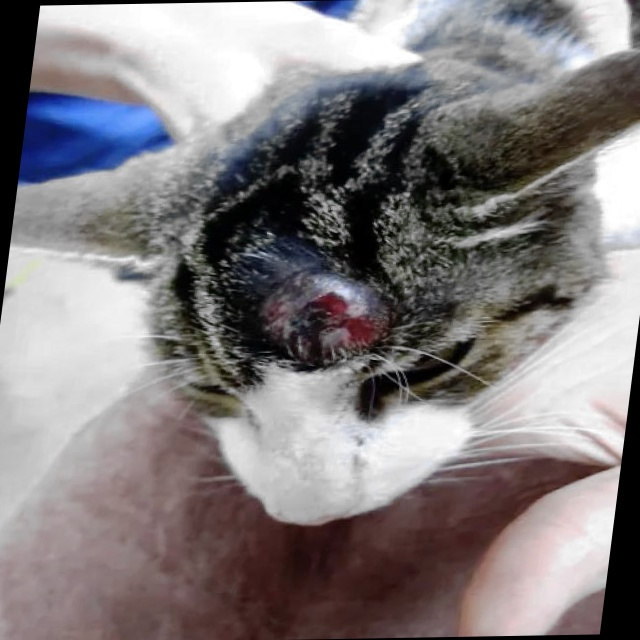lump_and_bump: (240, 268, 403, 359)
